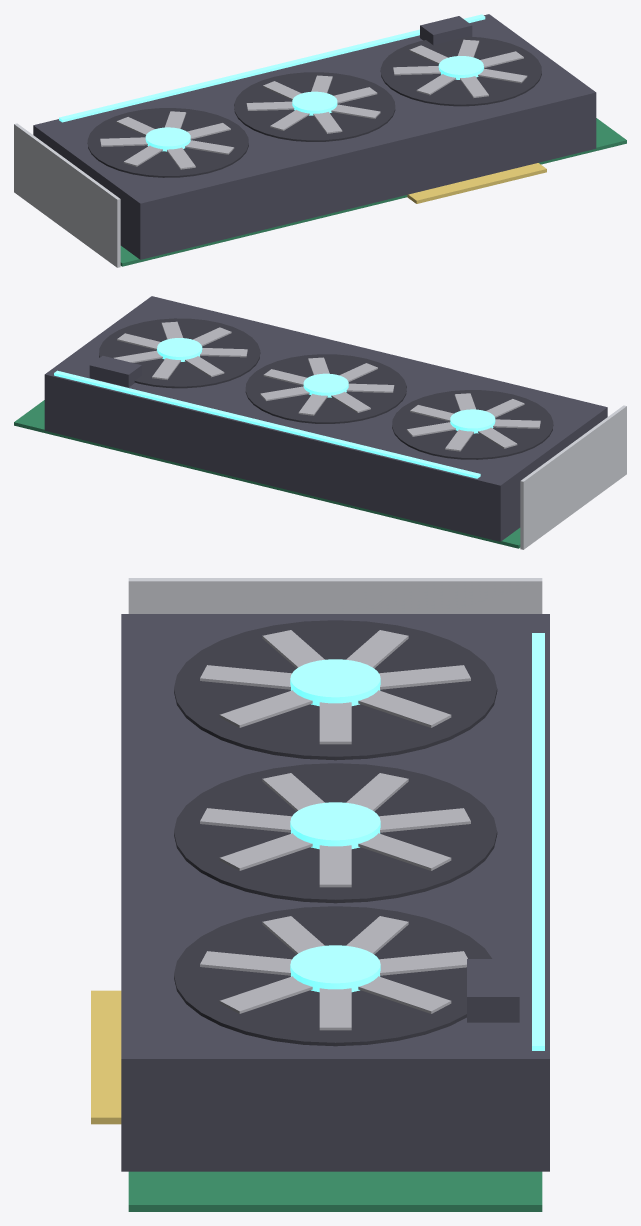
Rendered from gpu.glb.
3 views of the same model, one above another, from view 1: azimuth 30°, elevation 25°; view 2: azimuth 150°, elevation 25°; view 3: azimuth 270°, elevation 25° (orthographic). The views are drawn at different scales.
Parts seen in each view (by area): view 1: Shroud, IO_Bracket, Fan_2, Fan_1, Fan_3, Accent_Strip, PCB, PCIe_Connector, Power_Connector, Fan_Hub_1, Fan_Hub_2, Fan_Hub_3 (+15 smaller); view 2: Shroud, IO_Bracket, Fan_2, Fan_1, Fan_3, Accent_Strip, PCB, Power_Connector, Fan_Hub_1, Fan_Hub_2, Fan_Hub_3, Fan_1_Blade_4 (+13 smaller); view 3: Shroud, Fan_2, Fan_1, Fan_3, PCB, IO_Bracket, Accent_Strip, PCIe_Connector, Power_Connector, Fan_Hub_1, Fan_Hub_2, Fan_Hub_3 (+21 smaller).
Boxes of the visible parts, x1,y1,x2,y2 form: Shroud: [33, 14, 596, 259]; IO_Bracket: [14, 123, 120, 267]; Fan_2: [234, 72, 395, 141]; Fan_1: [87, 108, 248, 177]; Fan_3: [380, 36, 541, 106]; Accent_Strip: [59, 14, 485, 122]; PCB: [120, 118, 626, 266]; PCIe_Connector: [407, 163, 546, 203]; Power_Connector: [420, 16, 472, 45]; Fan_Hub_1: [145, 127, 190, 151]; Fan_Hub_2: [292, 91, 337, 115]; Fan_Hub_3: [438, 56, 483, 79]; Shroud: [44, 296, 607, 541]; IO_Bracket: [520, 405, 626, 549]; Fan_2: [245, 354, 406, 423]; Fan_1: [392, 390, 553, 459]; Fan_3: [99, 318, 260, 388]; Accent_Strip: [54, 370, 480, 478]; PCB: [14, 400, 520, 548]; Power_Connector: [89, 356, 141, 387]; Fan_Hub_1: [450, 409, 495, 433]; Fan_Hub_2: [303, 373, 348, 397]; Fan_Hub_3: [157, 338, 202, 361]; Fan_1_Blade_4: [493, 419, 540, 428]; Shroud: [121, 614, 549, 1171]; Fan_2: [174, 763, 497, 903]; Fan_1: [174, 620, 497, 760]; Fan_3: [174, 906, 492, 1046]; PCB: [128, 1171, 542, 1211]; IO_Bracket: [128, 578, 542, 613]; Accent_Strip: [532, 633, 544, 1050]; PCIe_Connector: [91, 990, 121, 1124]; Power_Connector: [467, 959, 519, 1022]; Fan_Hub_1: [290, 659, 380, 706]; Fan_Hub_2: [290, 802, 380, 849]; Fan_Hub_3: [290, 945, 380, 992].
Size of the model in its own units: 31.3 by 4.3 by 12.2.
